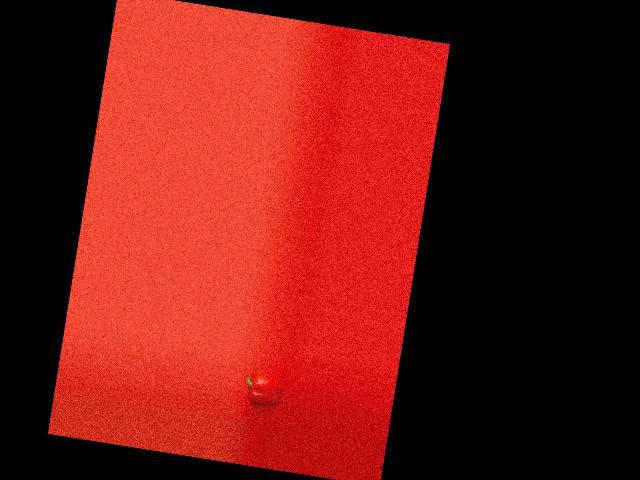bell_pepper: (240, 368, 287, 410)
